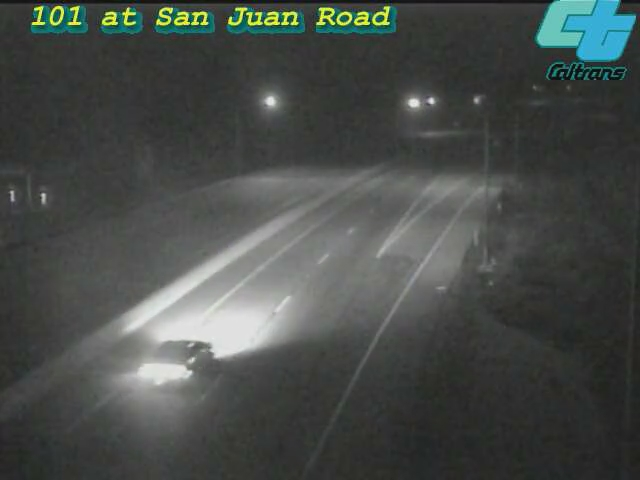vehicle: (122, 297, 232, 407)
